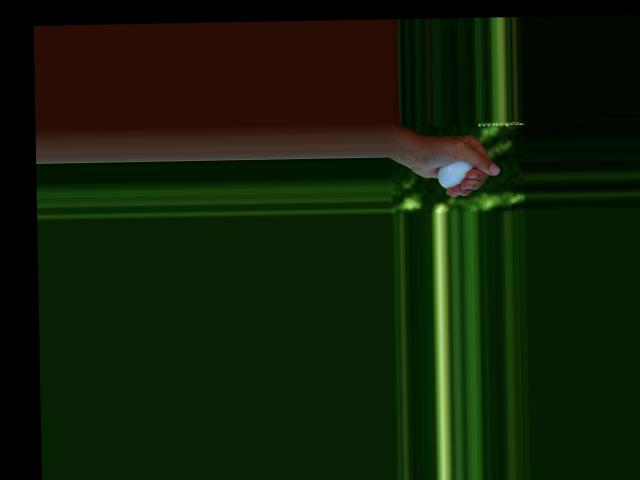egg: (438, 160, 475, 189)
